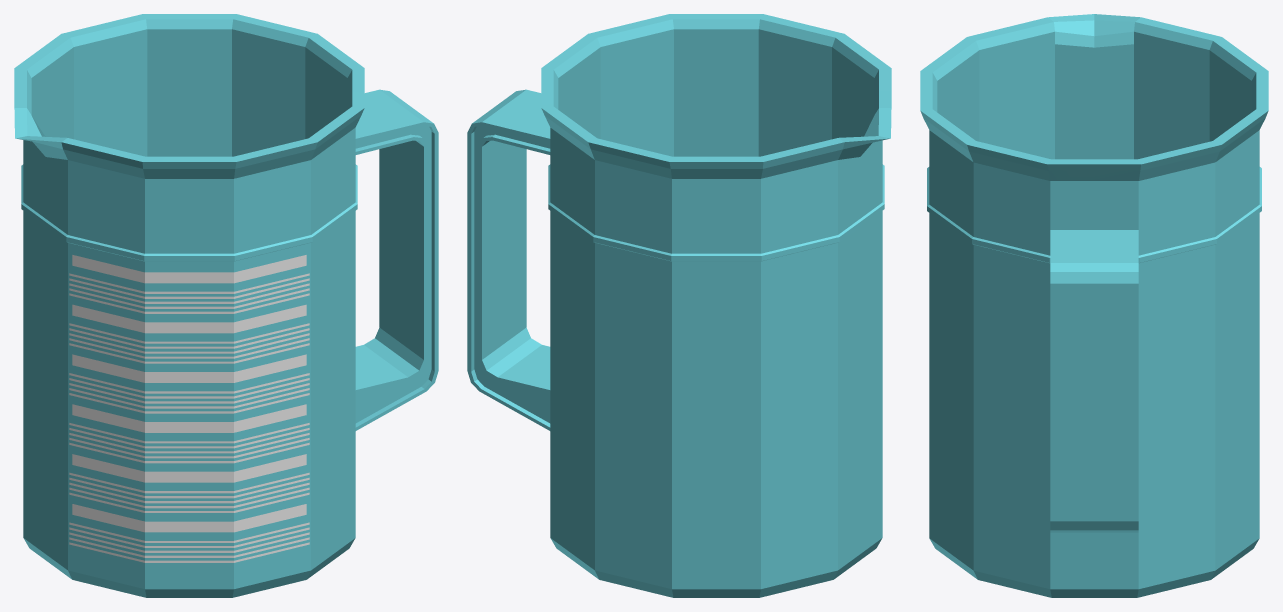
The model's file is SM_Beaker_02_B.glb.
The picture shows the model from 3 angles, left to right: view 1: azimuth 30°, elevation 25°; view 2: azimuth 150°, elevation 25°; view 3: azimuth 270°, elevation 25°; orthographic projection.
Parts seen in each view (by area): view 1: SM_Beaker_02_B; view 2: SM_Beaker_02_B; view 3: SM_Beaker_02_B.
Boxes of the visible parts, bbox=[...] form: SM_Beaker_02_B: bbox=[14, 14, 438, 597]; SM_Beaker_02_B: bbox=[467, 14, 891, 597]; SM_Beaker_02_B: bbox=[920, 14, 1268, 597].
Bounding box in the file's own units: 0.188 × 0.2001 × 0.1421.
